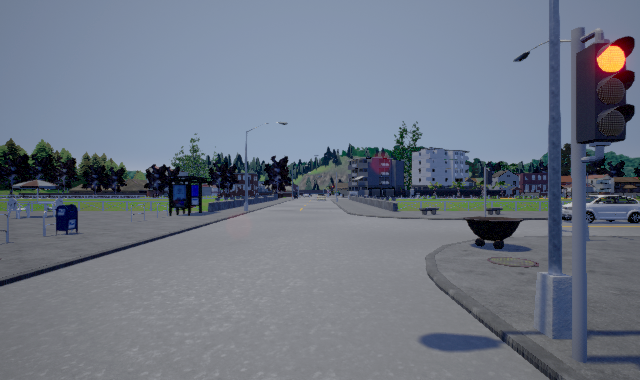traffic_light: (576, 28, 635, 163)
vehicle: (561, 192, 640, 223)
